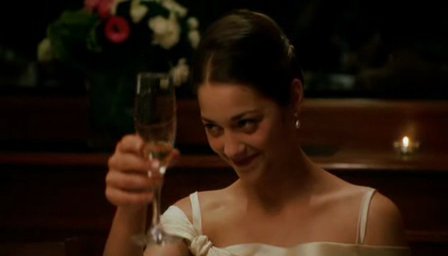cu: (1, 1, 448, 256)
face: (198, 86, 276, 185)
person: (103, 9, 410, 255)
